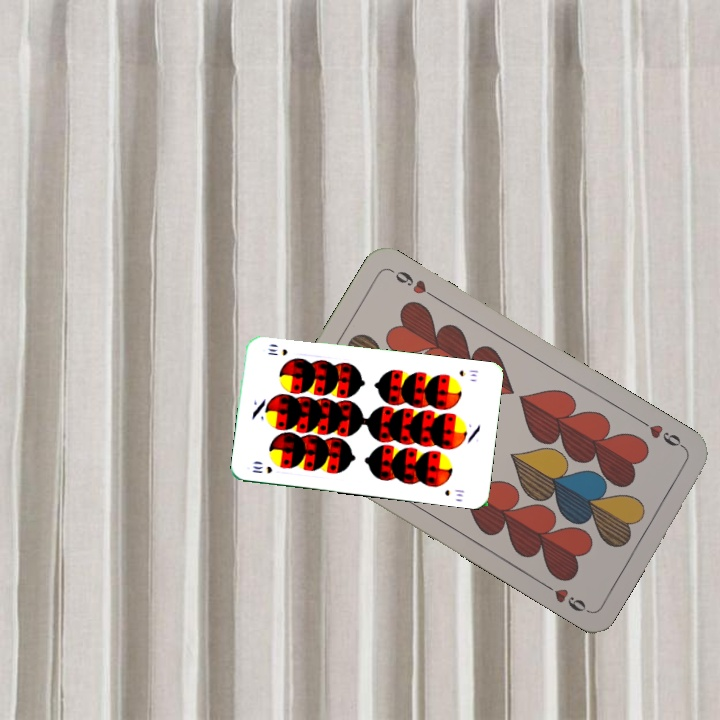H9: (635, 415, 689, 453)
S10: (249, 462, 275, 476), (455, 366, 481, 379)
